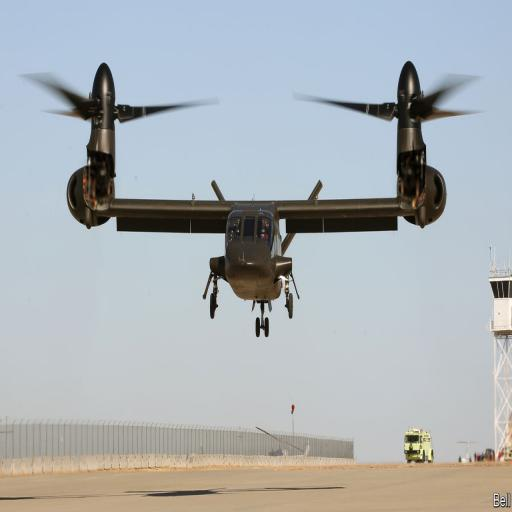helicopter: (41, 57, 451, 337)
